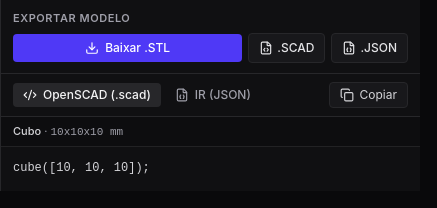
Test: Marco 5 (F8): Shell v1, Undo/Redo, Histórico, Abas Mobile e Cobertura › InspectorPanel copia código e trata falhas de clipboard e exportação
Later steps or results of the test are not shown.
Click the button with test id "copy-code" at (368,94), box [328,82,408,108]
Click the button with test id "copy-code" at (368,94), box [328,82,408,108]
Click the button with test id "export-stl" at (128,48), box [13,34,242,62]
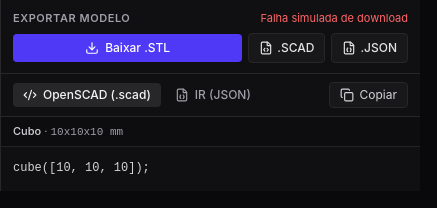
Now the message with test id "export-status" reads "Falha simulada de download", box [260,11,408,25]
